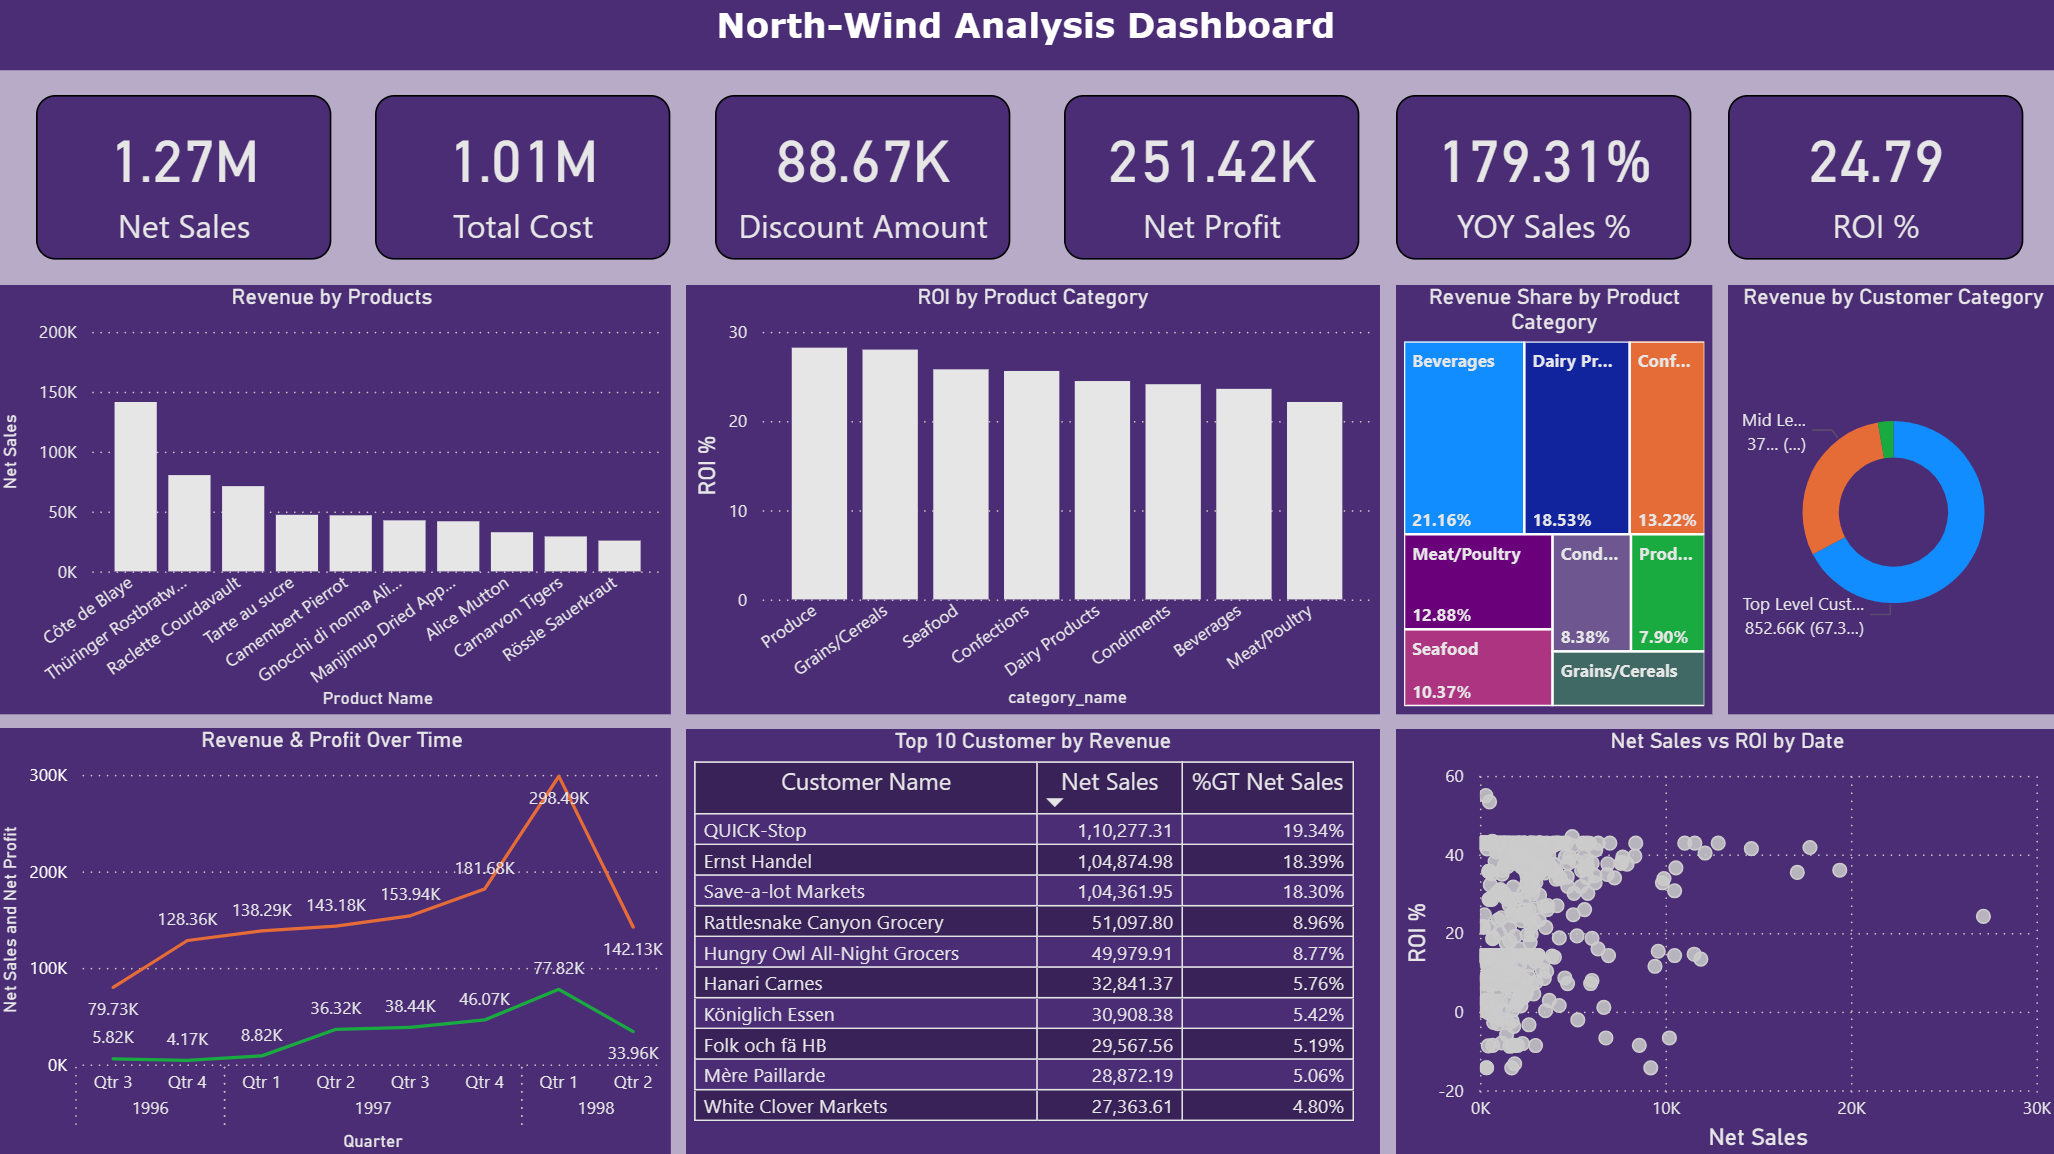

This screenshot's page, from the dashboard's own definition file:
{"tool":"powerbi","page":{"name":"Page 1","canvas":[1280,720],"ordinal":0},"visuals":[{"type":"card","title":"Net Profit","fields":{"Values":["DAX Measures.Net Sales"]},"box":[26.6,61.3,183.4,102.2],"z":0},{"type":"textbox","box":[0,0,1280.1,45.9],"z":1000},{"type":"card","title":"Net Profit","fields":{"Values":["DAX Measures.YOY Sales %"]},"box":[869.3,61.3,183.4,102.2],"z":2000},{"type":"card","title":"Net Profit","fields":{"Values":["DAX Measures.ROI"]},"box":[1075,61.3,183.4,102.2],"z":3000},{"type":"card","title":"Net Profit","fields":{"Values":["DAX Measures.Net Profit"]},"box":[663.6,61.3,183.4,102.2],"z":4000},{"type":"card","title":"Net Profit","fields":{"Values":["DAX Measures.Discount Amount"]},"box":[447.4,61.3,183.4,102.2],"z":5000},{"type":"card","title":"Net Profit","fields":{"Values":["DAX Measures.Total Cost"]},"box":[236.7,61.3,183.4,102.2],"z":6000},{"type":"columnChart","title":"Revenue by Products","fields":{"Category":["products.product_name"],"Y":["DAX Measures.Net Sales"]},"box":[0,179.1,420.1,266.4],"z":7000},{"type":"treemap","title":"Revenue Share by  Product Category","fields":{"Values":["DAX Measures.Net Sales"],"Group":["categories.category_name"]},"box":[869.3,179.1,196.4,265.8],"z":8000},{"type":"pieChart","title":"Revenue by  Customer Category","fields":{"Category":["customers.customer_category"],"Y":["DAX Measures.Net Sales"]},"box":[1075,179.1,205.1,266.4],"z":9000},{"type":"lineChart","title":"Revenue & Profit Over Time","fields":{"Y":["DAX Measures.Net Sales","DAX Measures.Net Profit"],"Category":["calender.Date.Variation.Date Hierarchy.Year","calender.Date.Variation.Date Hierarchy.Quarter"]},"box":[0,453.6,420.1,266.4],"z":10000},{"type":"columnChart","title":"ROI by Product Category","fields":{"Y":["DAX Measures.ROI"],"Category":["categories.category_name"]},"box":[429.4,179.1,430,265.8],"z":11000},{"type":"pivotTable","title":"Top 10 Customer by Revenue","fields":{"Rows":["customers.company_name"],"Values":["DAX Measures.Net Sales","Divide(DAX Measures.Net Sales, ScopedEval(DAX Measures.Net Sales, []))"]},"box":[429.4,454.2,430,265.8],"z":12000},{"type":"scatterChart","title":"Net Sales vs ROI by Date","fields":{"X":["DAX Measures.Net Sales"],"Y":["DAX Measures.ROI"],"Category":["calender.Date"]},"box":[869.3,454.2,410.8,265.8],"z":13000}]}

Visuals, with their boxes in screenshot pixels (x1, y1, x2, y2), scaled from the page's 1280x720 canvas onto the 2054x1154 screenshot:
"Net Profit" card: 43/98/337/262
textbox: 0/0/2053/74
"Net Profit" card: 1395/98/1689/262
"Net Profit" card: 1725/98/2019/262
"Net Profit" card: 1065/98/1359/262
"Net Profit" card: 718/98/1012/262
"Net Profit" card: 380/98/674/262
"Revenue by Products" columnChart: 0/287/674/714
"Revenue Share by  Product Category" treemap: 1395/287/1710/713
"Revenue by  Customer Category" pieChart: 1725/287/2053/714
"Revenue & Profit Over Time" lineChart: 0/727/674/1153
"ROI by Product Category" columnChart: 689/287/1379/713
"Top 10 Customer by Revenue" pivotTable: 689/728/1379/1153
"Net Sales vs ROI by Date" scatterChart: 1395/728/2053/1153
